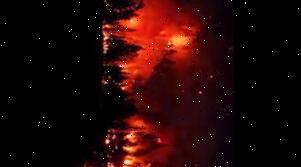fire: (93, 0, 192, 167)
